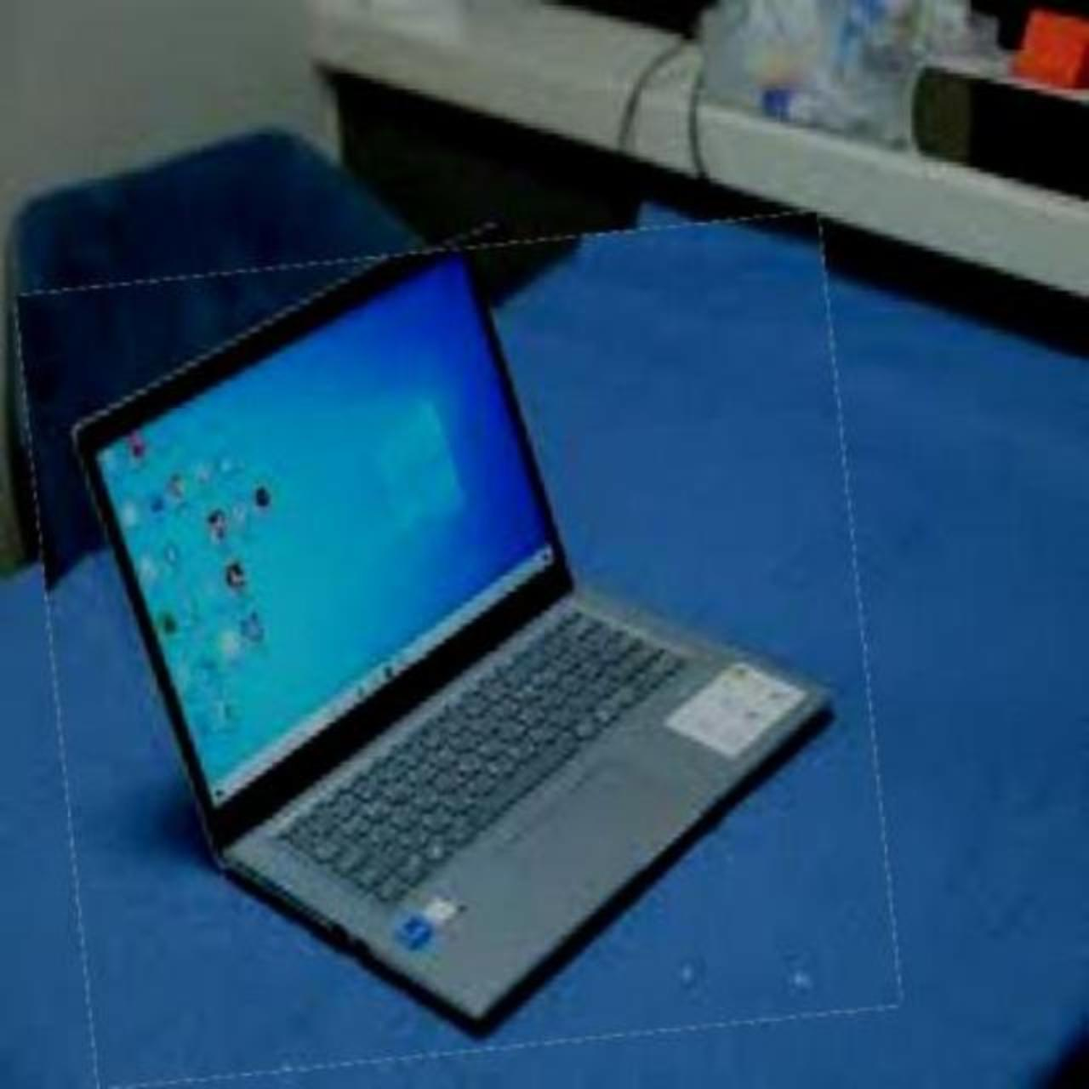laptop: (34, 231, 881, 1069)
